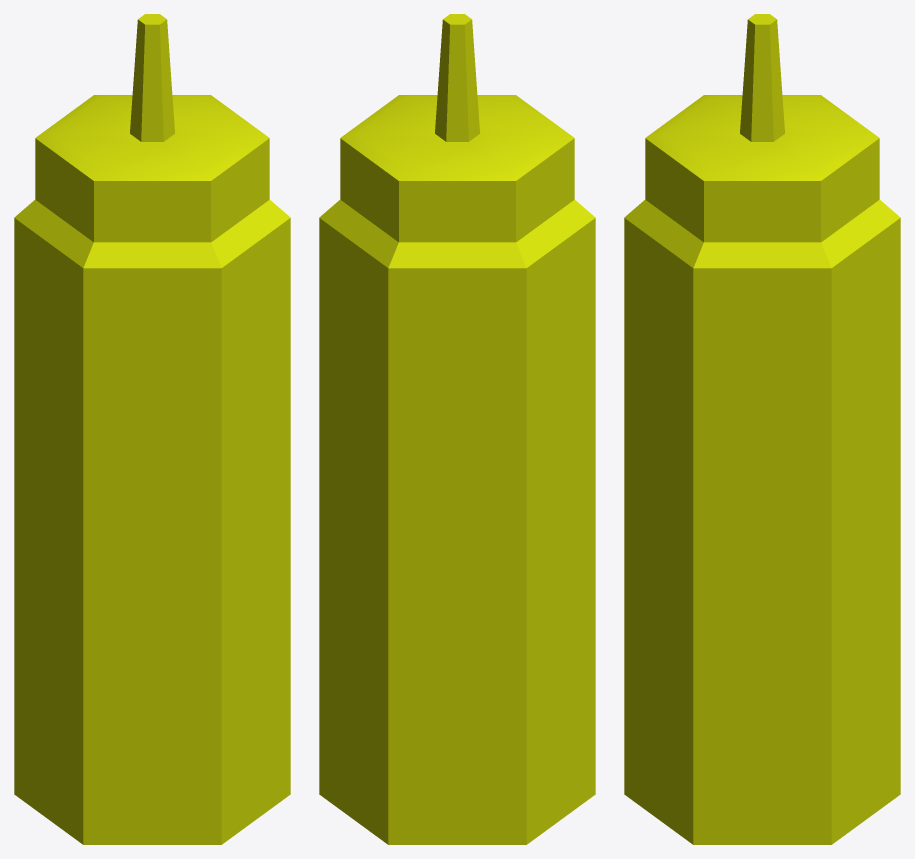
File: mustard_bote.fbx
3 views of the same model, side by side, from view 1: azimuth 30°, elevation 25°; view 2: azimuth 150°, elevation 25°; view 3: azimuth 270°, elevation 25° (orthographic).
Visible parts, largest first — view 1: mustard_bote; view 2: mustard_bote; view 3: mustard_bote.
Boxes of the visible parts, x1,y1,x2,y2 form: mustard_bote: (14, 14, 290, 844); mustard_bote: (319, 14, 595, 844); mustard_bote: (624, 14, 900, 844).
Size of the model in its own units: 4.72 by 16.86 by 5.45.
